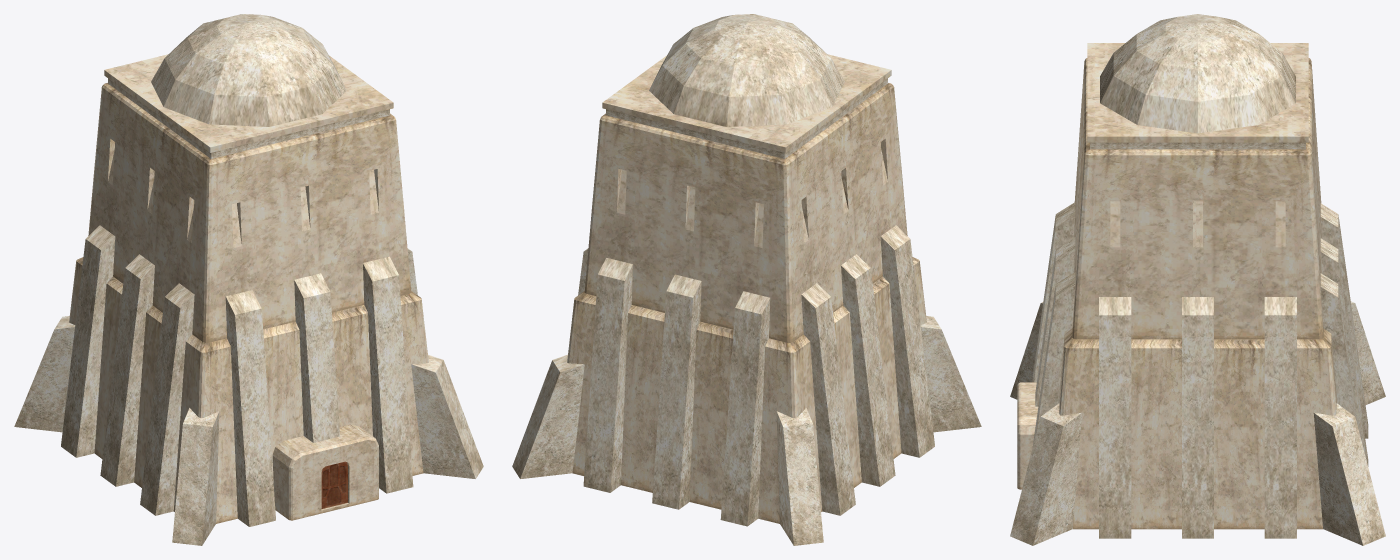
Rendered from thm_tato_imprv_building_s02_l0.fbx.
The picture shows the model from 3 angles, left to right: view 1: azimuth 30°, elevation 25°; view 2: azimuth 150°, elevation 25°; view 3: azimuth 270°, elevation 25°; orthographic projection. The views are drawn at different scales.
Parts seen in each view (by area): view 1: mesh_node; view 2: mesh_node; view 3: mesh_node.
Part boxes in pixels (x1=…): mesh_node: x1=14, y1=14, x2=483, y2=545; mesh_node: x1=512, y1=14, x2=981, y2=545; mesh_node: x1=1010, y1=14, x2=1385, y2=545.
Size of the model in its own units: 22.7 by 29.53 by 22.7.
